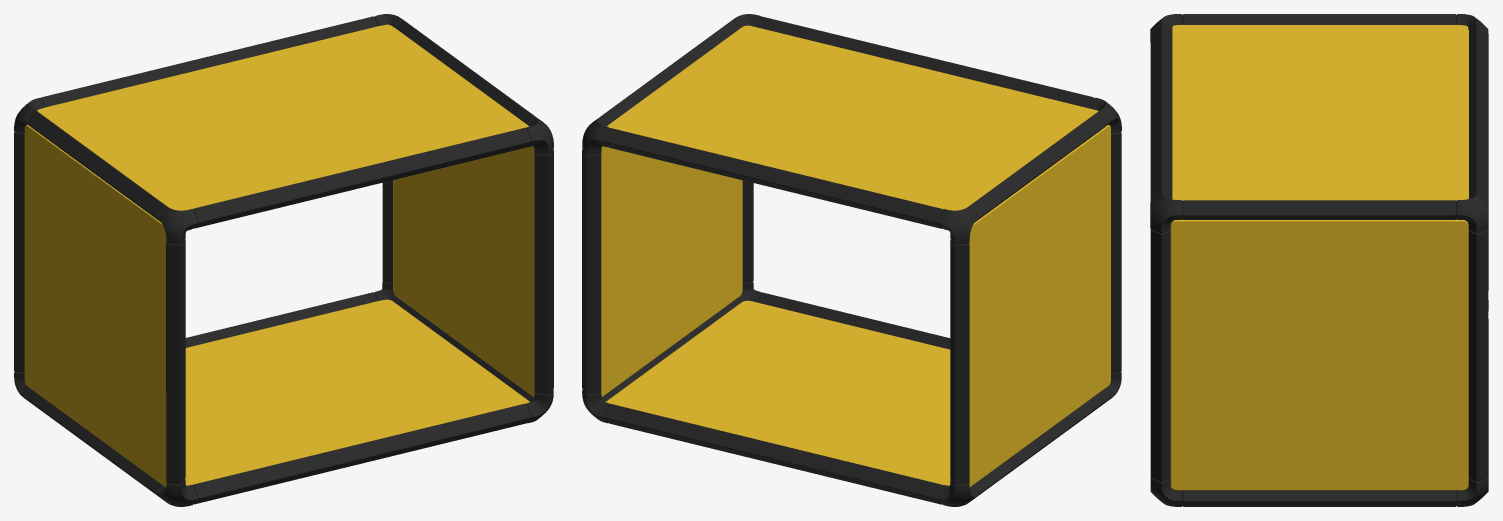
The picture shows the model from 3 angles, left to right: view 1: azimuth 30°, elevation 25°; view 2: azimuth 150°, elevation 25°; view 3: azimuth 270°, elevation 25°; orthographic projection. The views are drawn at different scales.
Parts seen in each view (by area): view 1: 479x329x329; view 2: 479x329x329; view 3: 479x329x329.
Boxes of the visible parts, left/top/right/bottom form: 479x329x329: left=14, top=14, right=553, bottom=506; 479x329x329: left=582, top=14, right=1121, bottom=506; 479x329x329: left=1150, top=14, right=1488, bottom=506.
Bounding box in the file's own units: 0.5567 × 0.4066 × 0.4063.
